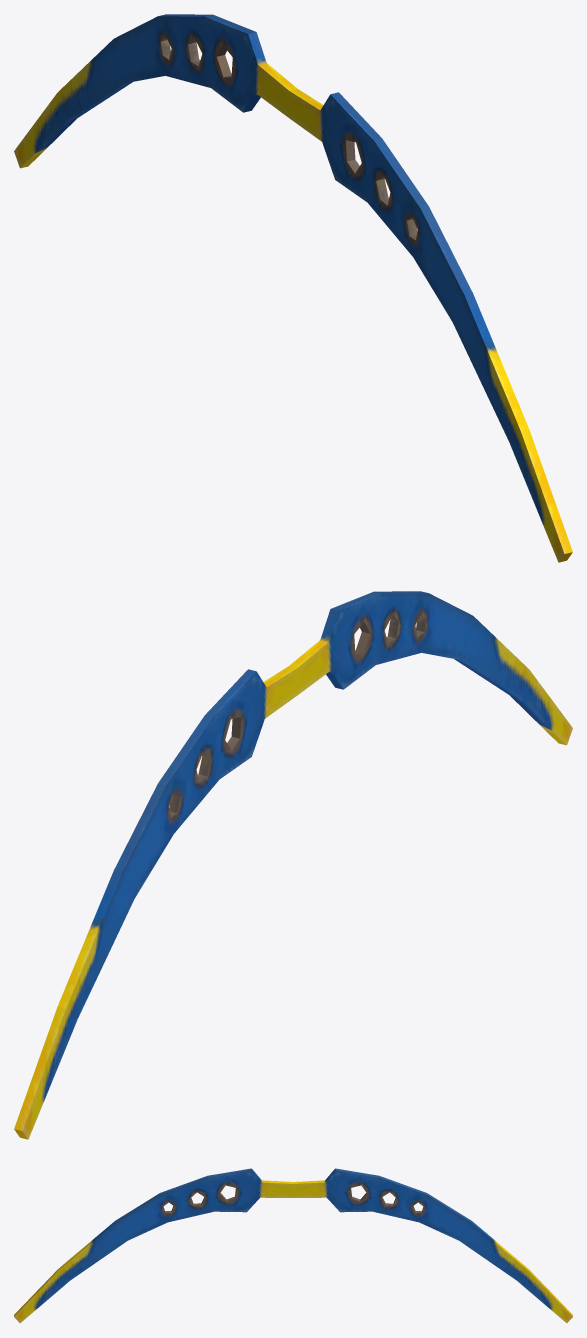
File: Chameleon_plungerBow_bow.obj
3 views of the same model, one above another, from view 1: azimuth 30°, elevation 25°; view 2: azimuth 150°, elevation 25°; view 3: azimuth 270°, elevation 25° (orthographic). The views are drawn at different scales.
Parts seen in each view (by area): view 1: Chameleon_plungerBow_tri [bow]; view 2: Chameleon_plungerBow_tri [bow]; view 3: Chameleon_plungerBow_tri [bow].
Part boxes in pixels (x1=…): Chameleon_plungerBow_tri [bow]: x1=14, y1=14, x2=572, y2=562; Chameleon_plungerBow_tri [bow]: x1=14, y1=591, x2=572, y2=1139; Chameleon_plungerBow_tri [bow]: x1=14, y1=1168, x2=572, y2=1323.
Bounding box in the file's own units: 0.0113 × 0.3848 × 1.27.
Materials: 1 (1 with a texture image).
